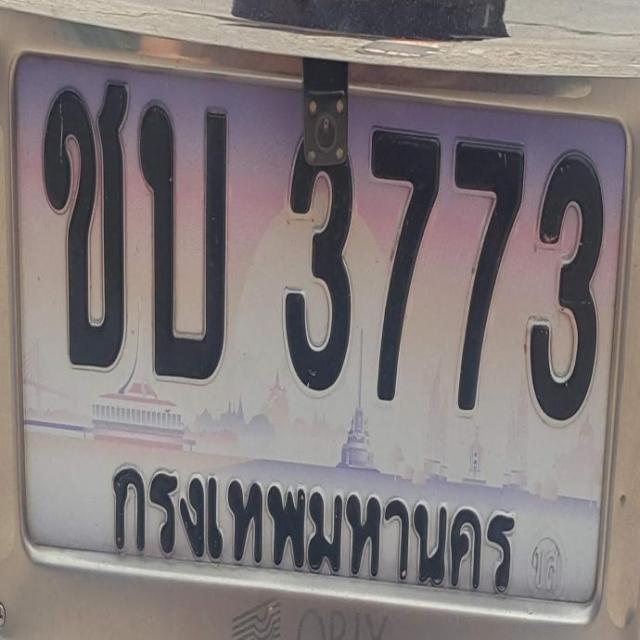3: (518, 146, 613, 426), (269, 142, 359, 395)
7: (432, 136, 529, 415), (364, 120, 446, 403)
A10: (29, 67, 138, 372)
A26: (129, 91, 238, 385)
BKK: (86, 431, 529, 592)
